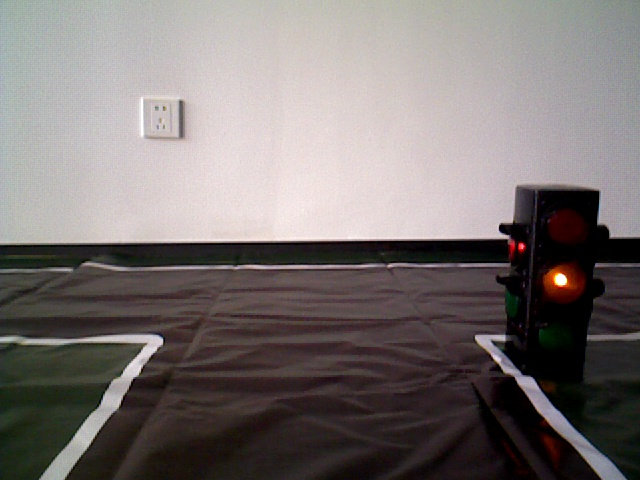yellow: (510, 177, 600, 359)
